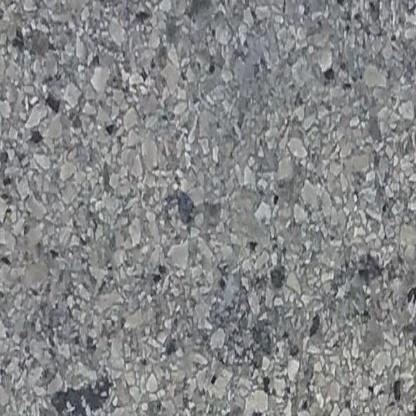Cracks: (410, 329, 416, 369)
